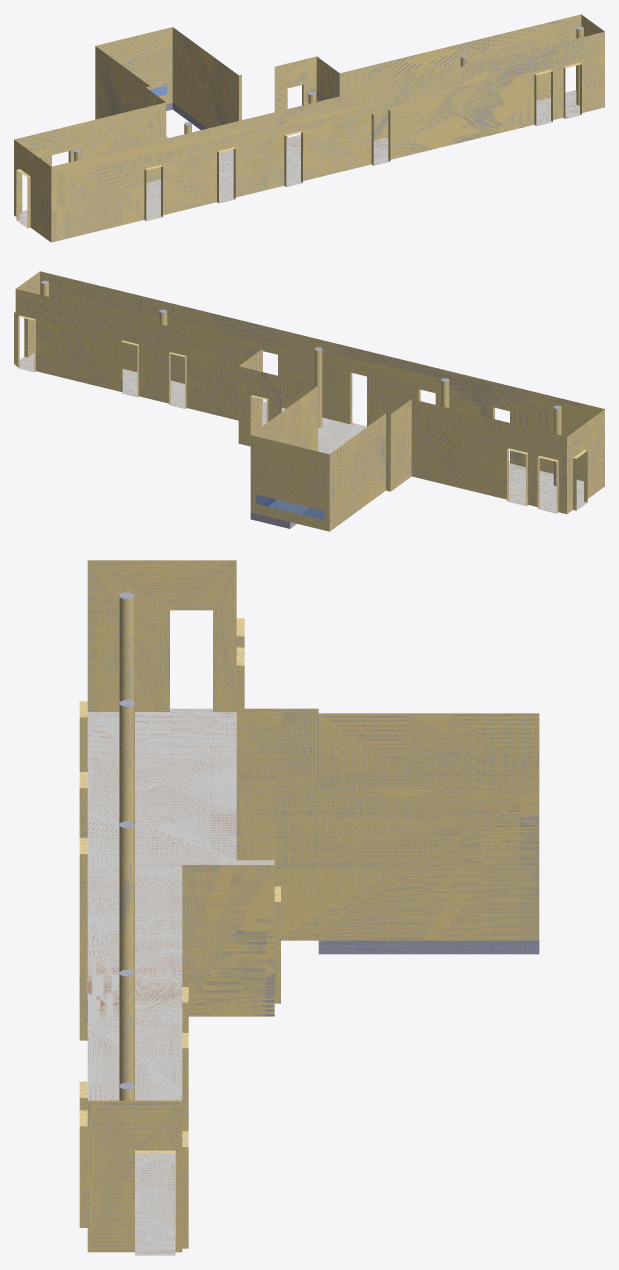
Rendered from COM001.obj.
The picture shows the model from 3 angles, top to bottom: view 1: azimuth 30°, elevation 25°; view 2: azimuth 150°, elevation 25°; view 3: azimuth 270°, elevation 25°; orthographic projection. The views are drawn at different scales.
Parts seen in each view (by area): view 1: Mesh16 COM001 Model; view 2: Mesh16 COM001 Model, Mesh1 Group1 COM001 Model, Mesh13 Group5 COM001 Model; view 3: Mesh16 COM001 Model, Mesh1 Group1 COM001 Model, Mesh7 Group3 COM001 Model, Mesh4 Group2 COM001 Model, Mesh13 Group5 COM001 Model.
Part boxes in pixels (x1,y1,x2,y2): Mesh16 COM001 Model: [14, 14, 604, 242]; Mesh16 COM001 Model: [14, 271, 604, 531]; Mesh1 Group1 COM001 Model: [314, 347, 322, 427]; Mesh13 Group5 COM001 Model: [553, 405, 561, 486]; Mesh16 COM001 Model: [79, 560, 539, 1255]; Mesh1 Group1 COM001 Model: [119, 821, 134, 972]; Mesh7 Group3 COM001 Model: [119, 700, 134, 824]; Mesh4 Group2 COM001 Model: [119, 970, 134, 1085]; Mesh13 Group5 COM001 Model: [119, 592, 134, 702].
Size of the model in its own units: 23.17 by 3.26 by 8.22.
Materials: 7 (2 with a texture image).
